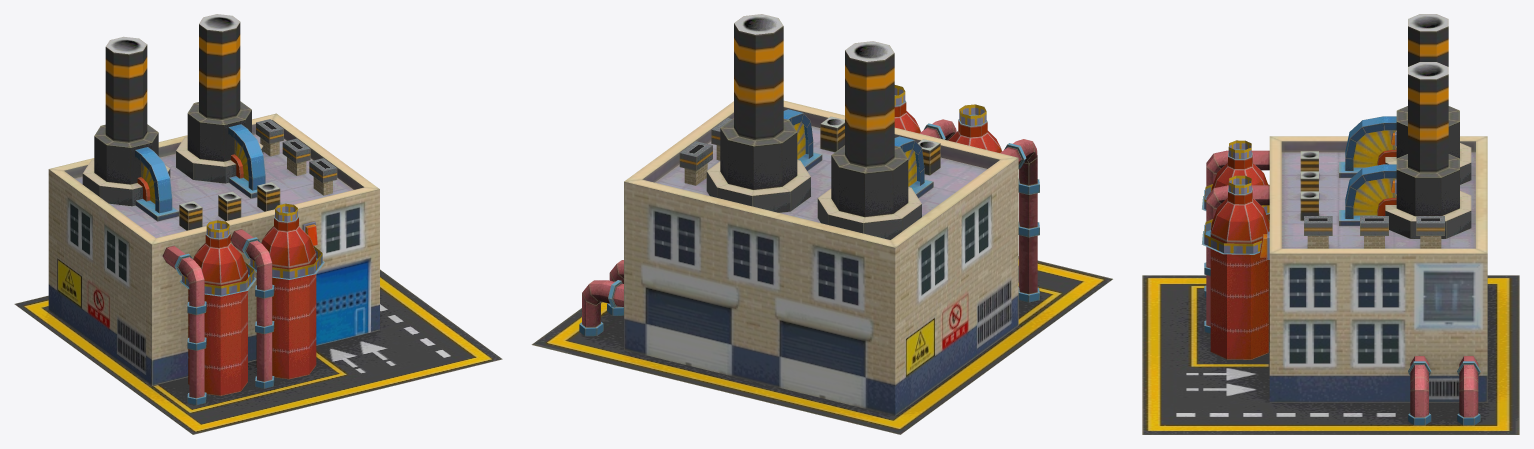
Rendered from L厂房3.obj.
3 views of the same model, side by side, from view 1: azimuth 30°, elevation 25°; view 2: azimuth 150°, elevation 25°; view 3: azimuth 270°, elevation 25° (orthographic). The views are drawn at different scales.
Parts seen in each view (by area): view 1: gongchang02; view 2: gongchang02; view 3: gongchang02.
Boxes of the visible parts, box(x1,y1,x2,y2) form: gongchang02: box(14, 14, 502, 434); gongchang02: box(531, 14, 1112, 434); gongchang02: box(1142, 14, 1519, 434).
Size of the model in its own units: 5.08 by 4.29 by 5.08.
